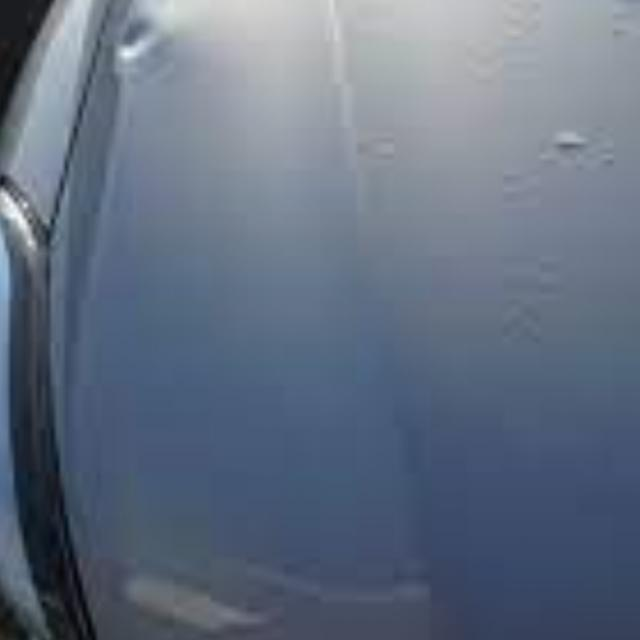dents: (104, 13, 202, 103)
